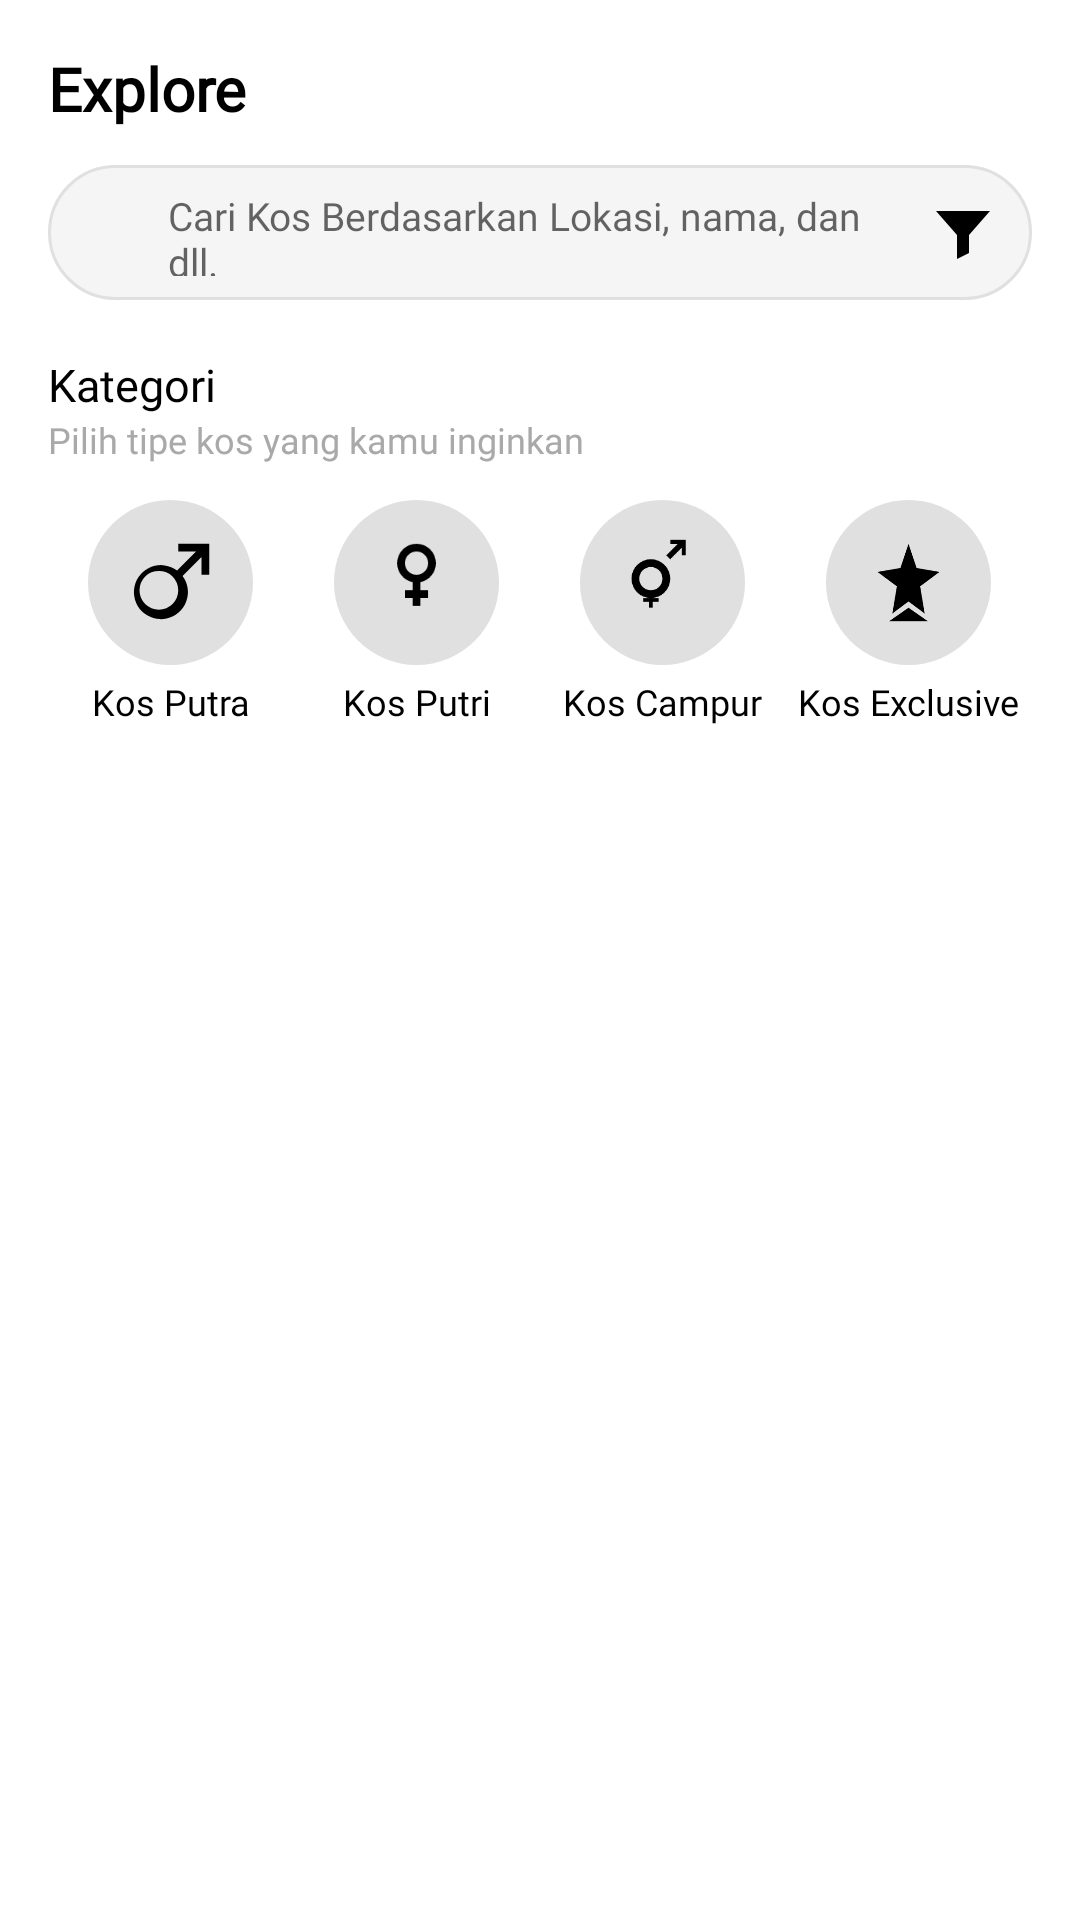

Icons on this 1080x1920 Android screen, each with its box as (x1, y1, x2, y2):
Filter: (936, 211, 990, 259)
star badge: (826, 500, 991, 665)
